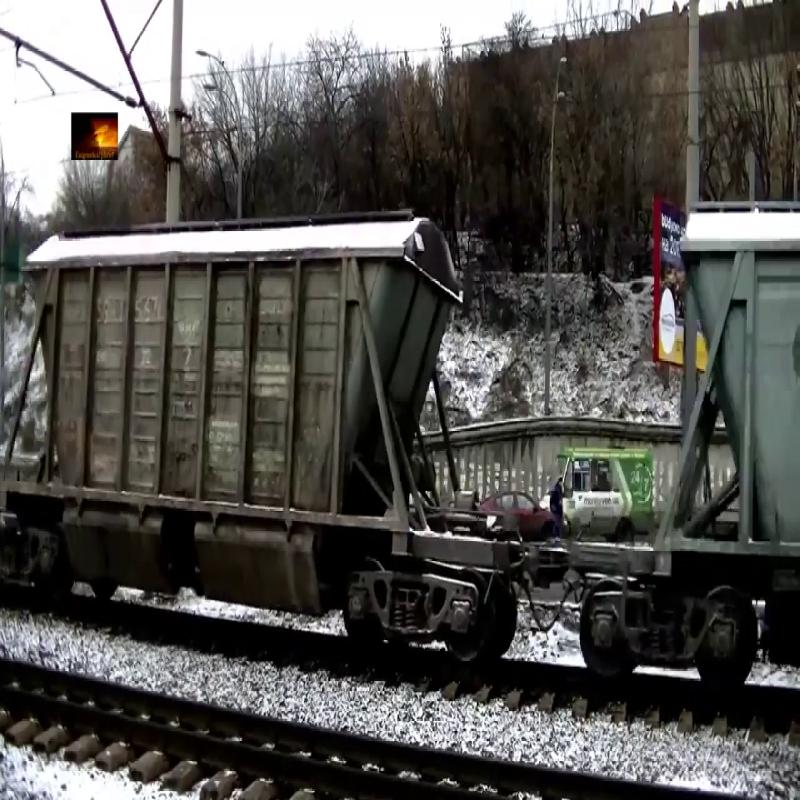train: (1, 202, 466, 584), (651, 195, 800, 594)
